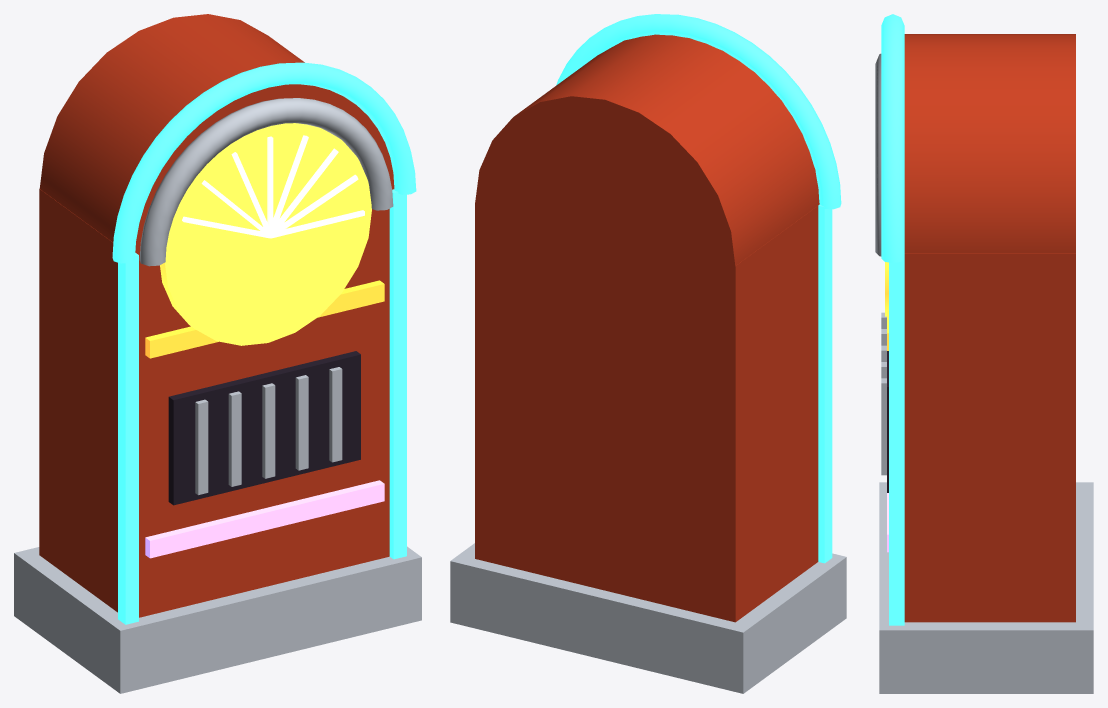
Rendered from space_jukebox.glb.
The picture shows the model from 3 angles, left to right: view 1: azimuth 30°, elevation 25°; view 2: azimuth 150°, elevation 25°; view 3: azimuth 270°, elevation 25°; orthographic projection. The views are drawn at different scales.
Bounding box in the file's own units: 0.9 × 1.67 × 0.56.
